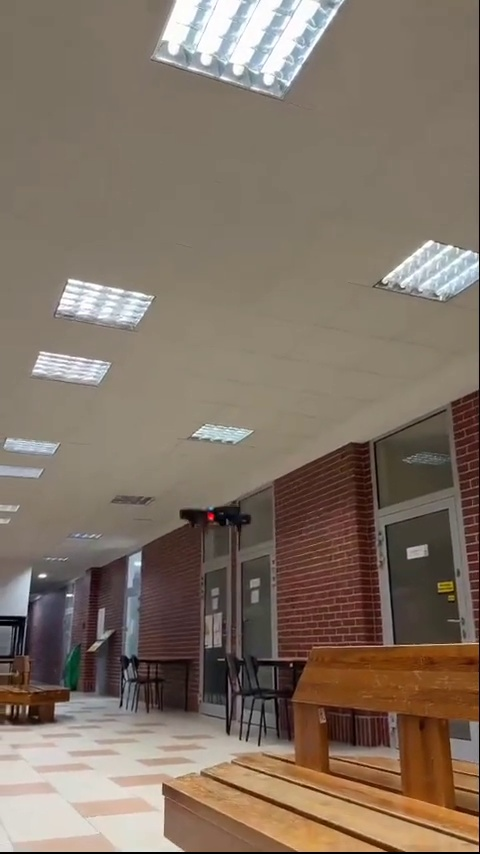drone: (179, 506, 258, 533)
